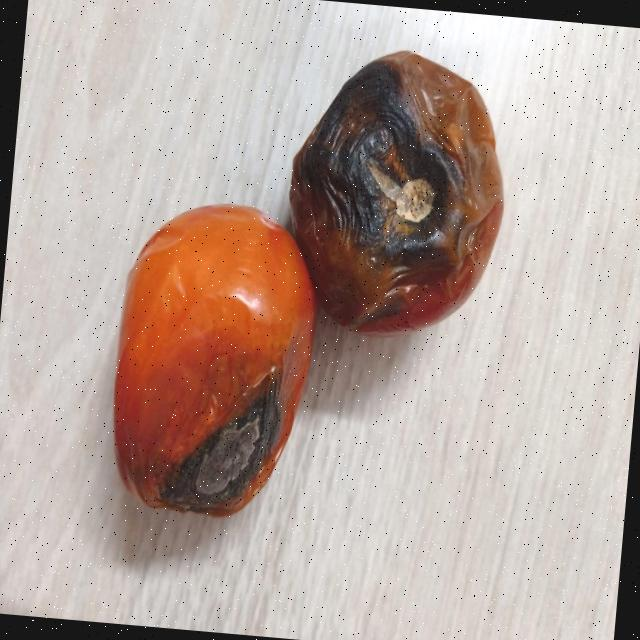Rotten: (101, 190, 324, 523), (276, 38, 514, 344)
